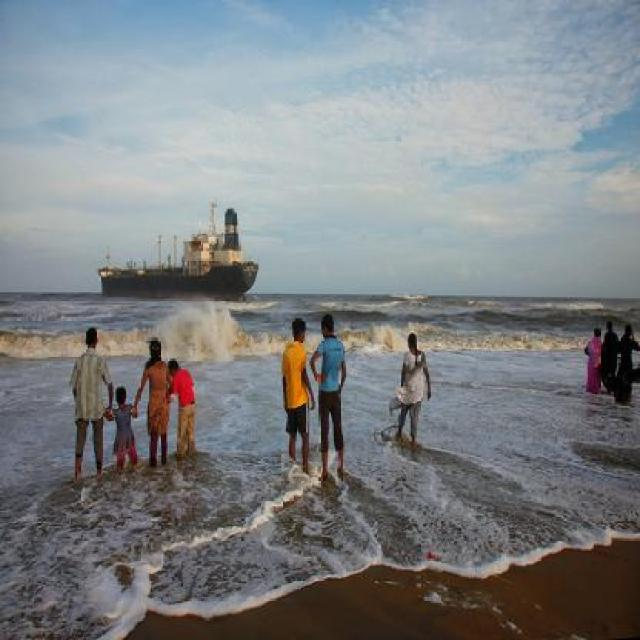ship: (101, 196, 264, 301)
